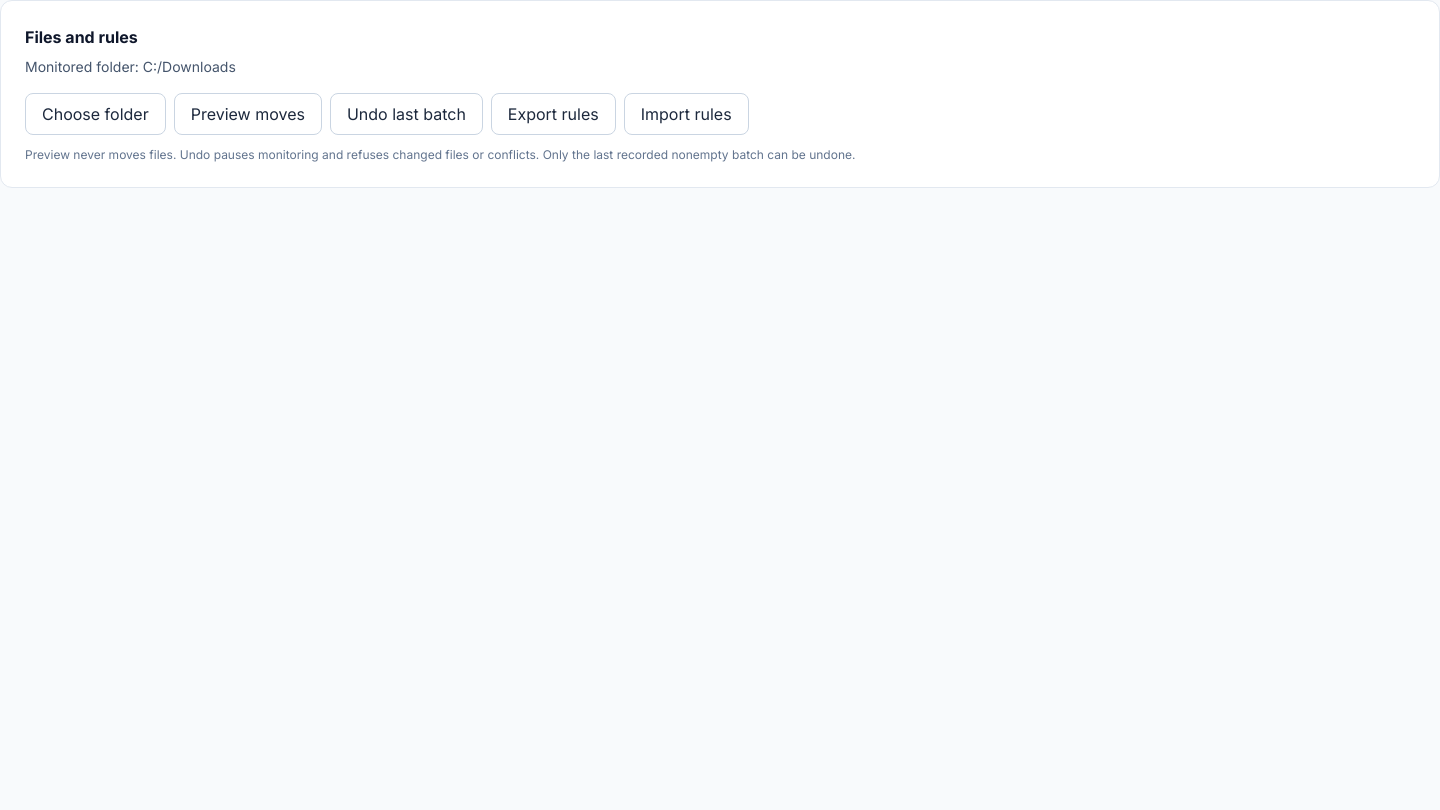
Test: FileTools › requires confirmation for undo and preserves a refusal message
The width and height of the screenshot is (1440, 810).
Click the button "Undo last batch" at (406, 114), box [330,93,483,135]
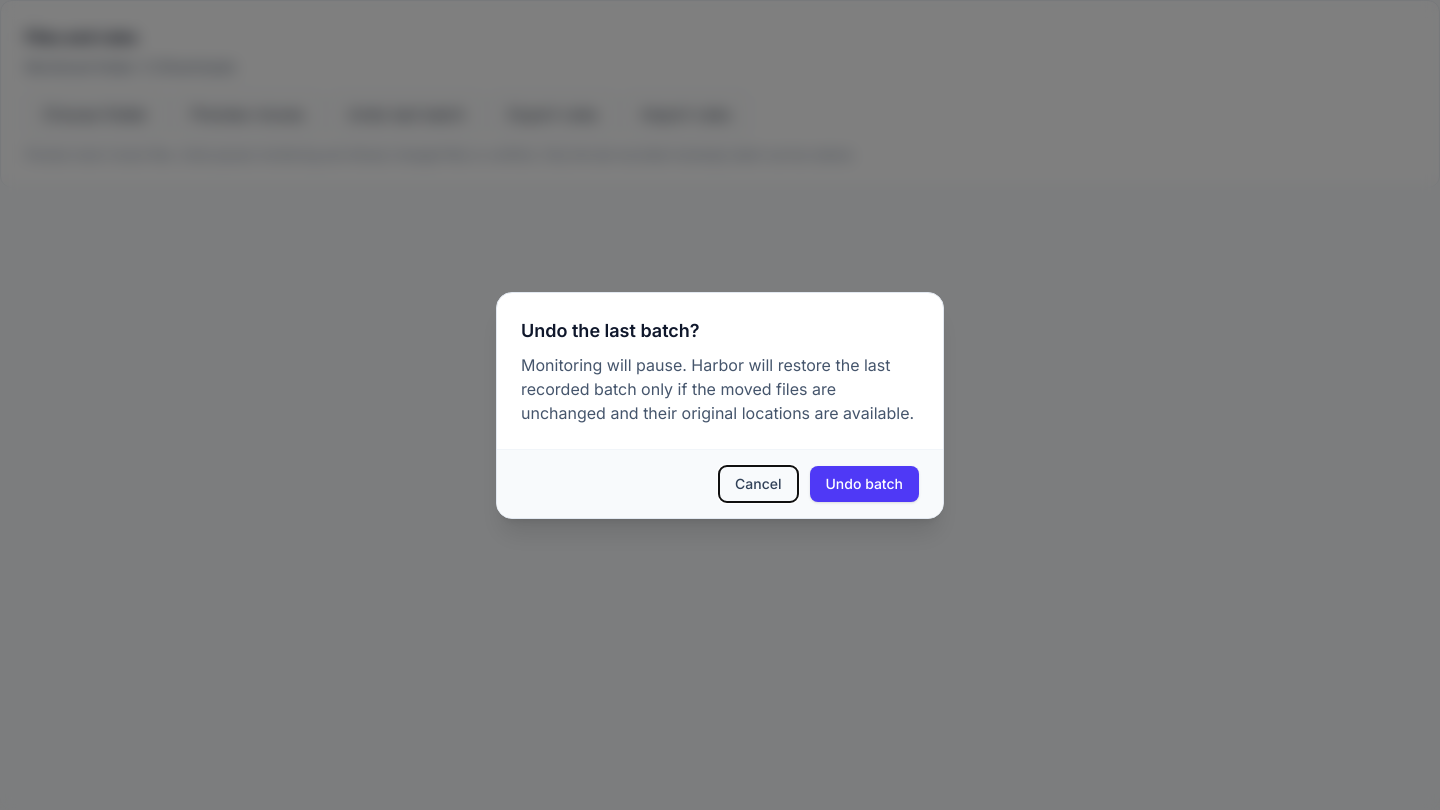
Click the button "Undo batch" at (864, 484), box [810,466,919,502]
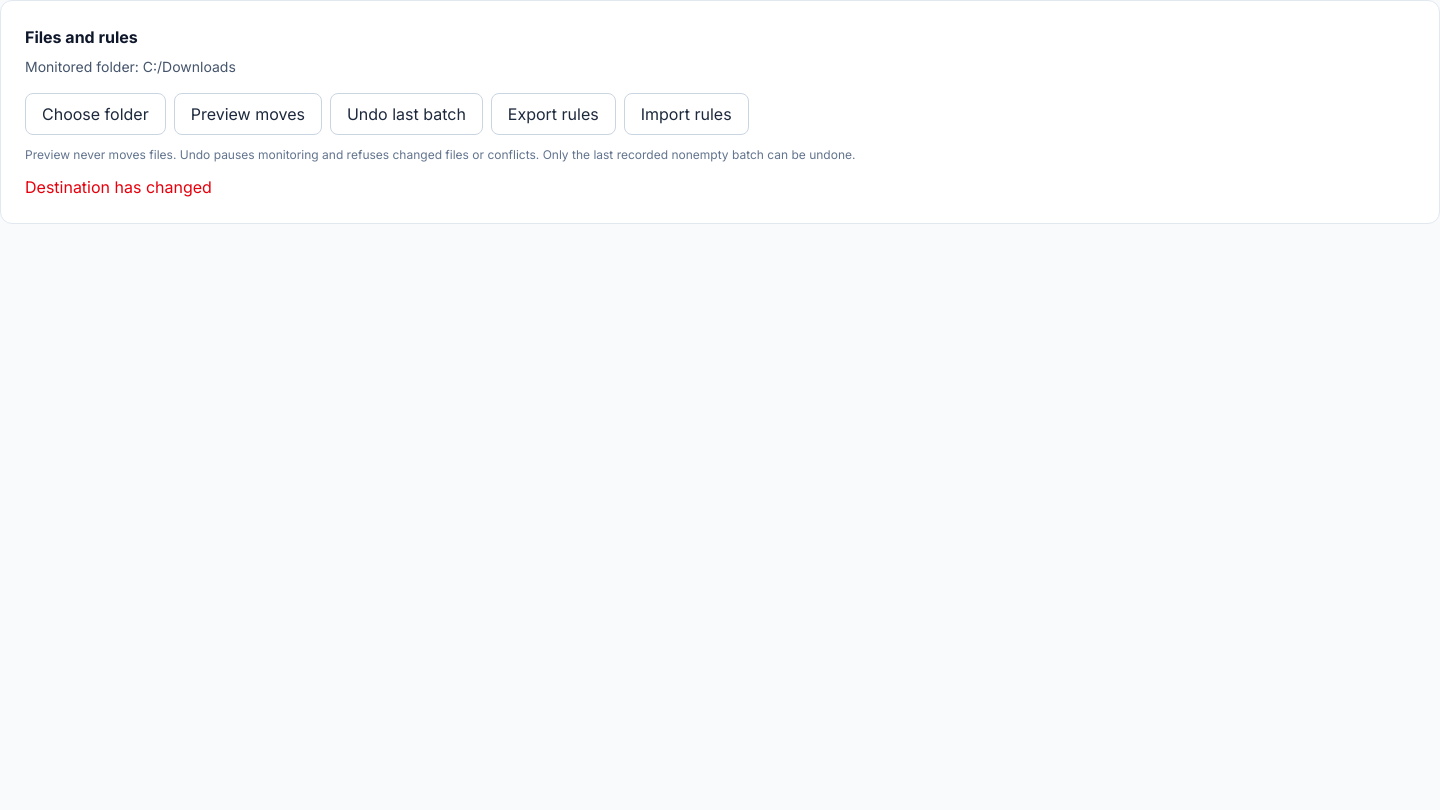
Expected: the message reads "Destination has changed", [25,177,212,197]
